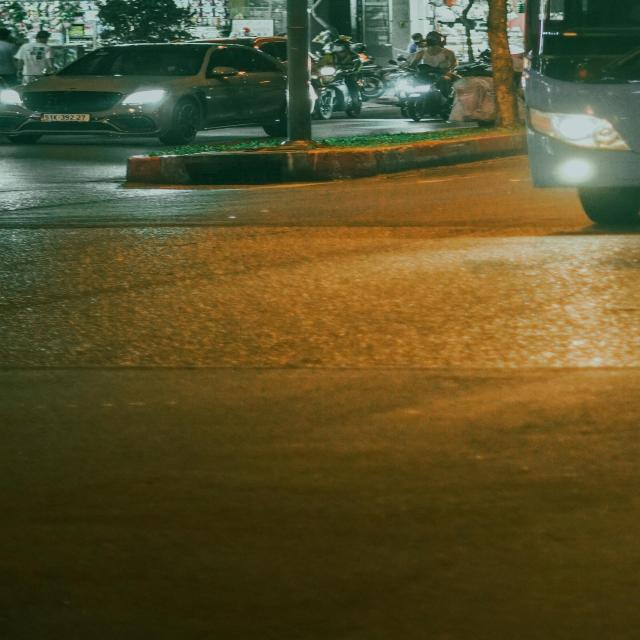bus: (515, 0, 640, 224)
car: (0, 41, 290, 142)
motorbike: (402, 32, 460, 121), (314, 37, 365, 120)
